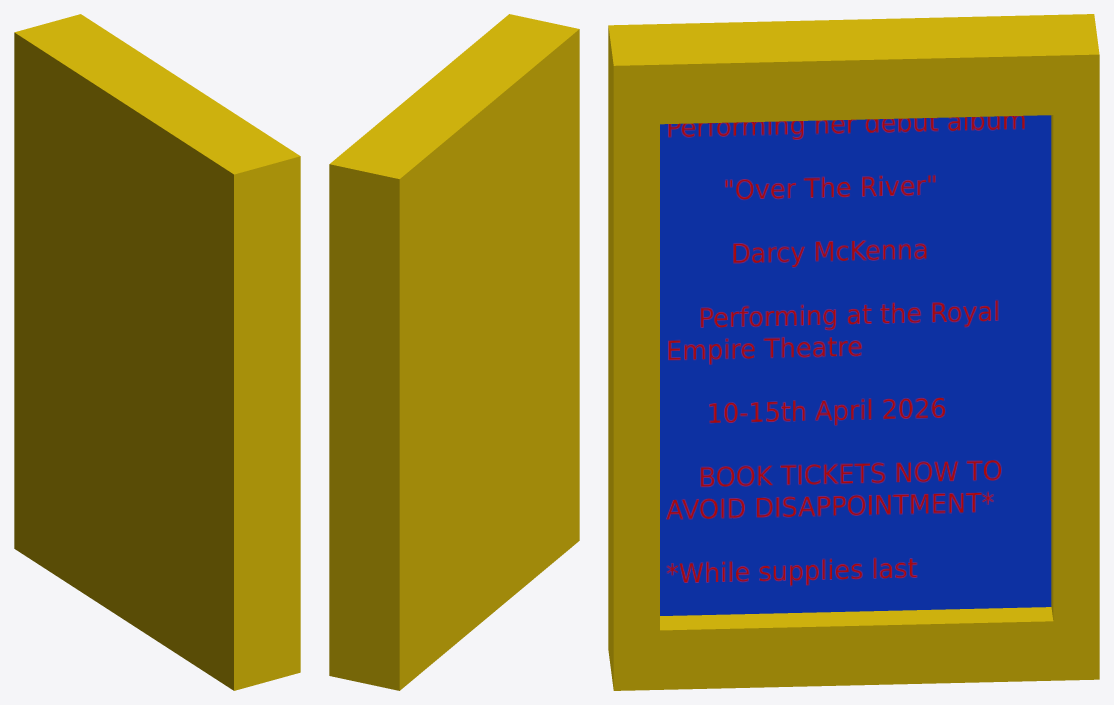
The model's file is left_poster.fbx.
3 views of the same model, side by side, from view 1: azimuth 30°, elevation 25°; view 2: azimuth 150°, elevation 25°; view 3: azimuth 270°, elevation 25° (orthographic). The views are drawn at different scales.
Parts seen in each view (by area): view 1: LeftPoster_LOD0; view 2: LeftPoster_LOD0; view 3: LeftPoster_LOD0.
Part boxes in pixels (bbox=[...]): LeftPoster_LOD0: bbox=[14, 14, 300, 690]; LeftPoster_LOD0: bbox=[329, 14, 579, 690]; LeftPoster_LOD0: bbox=[608, 14, 1099, 690].
Size of what is drawn, in the model's own units: 50.46 by 284 by 202.
